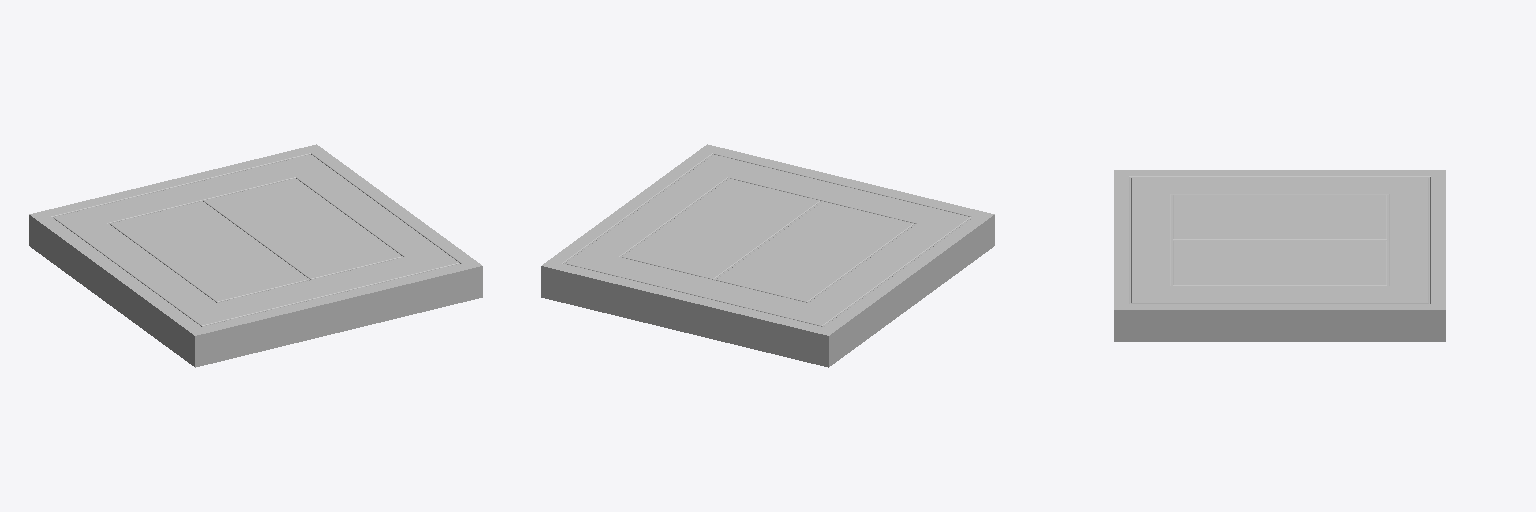
The model's file is DoorFour_mid.obj.
3 renders of one model, left to right at view 1: azimuth 30°, elevation 25°; view 2: azimuth 150°, elevation 25°; view 3: azimuth 270°, elevation 25°, orthographic.
Visible parts, largest first — view 1: Door_mid_Cube.011; view 2: Door_mid_Cube.011; view 3: Door_mid_Cube.011.
Part boxes in pixels (x1,y1,x2,y2): Door_mid_Cube.011: (29,144,482,367); Door_mid_Cube.011: (541,144,994,367); Door_mid_Cube.011: (1114,170,1445,341).
Bounding box in the file's own units: 0.38 × 0.04 × 0.38.